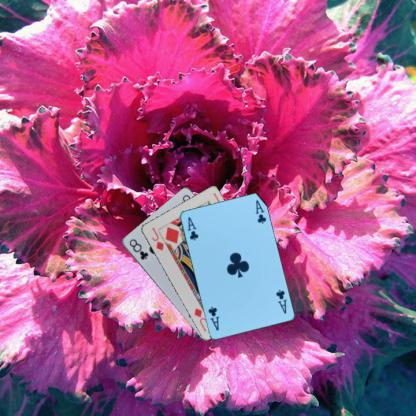8c: (127, 236, 149, 261)
Ac: (272, 287, 288, 315), (185, 214, 199, 242)
Jd: (149, 224, 165, 252)
